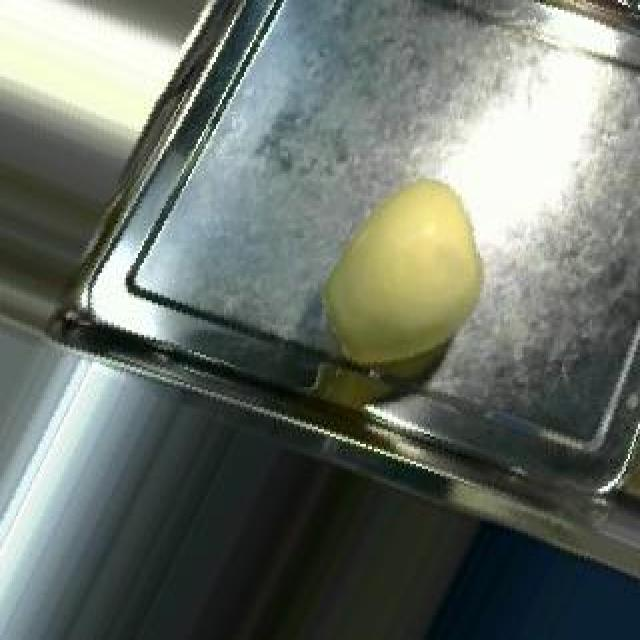apple: (289, 137, 512, 420)
